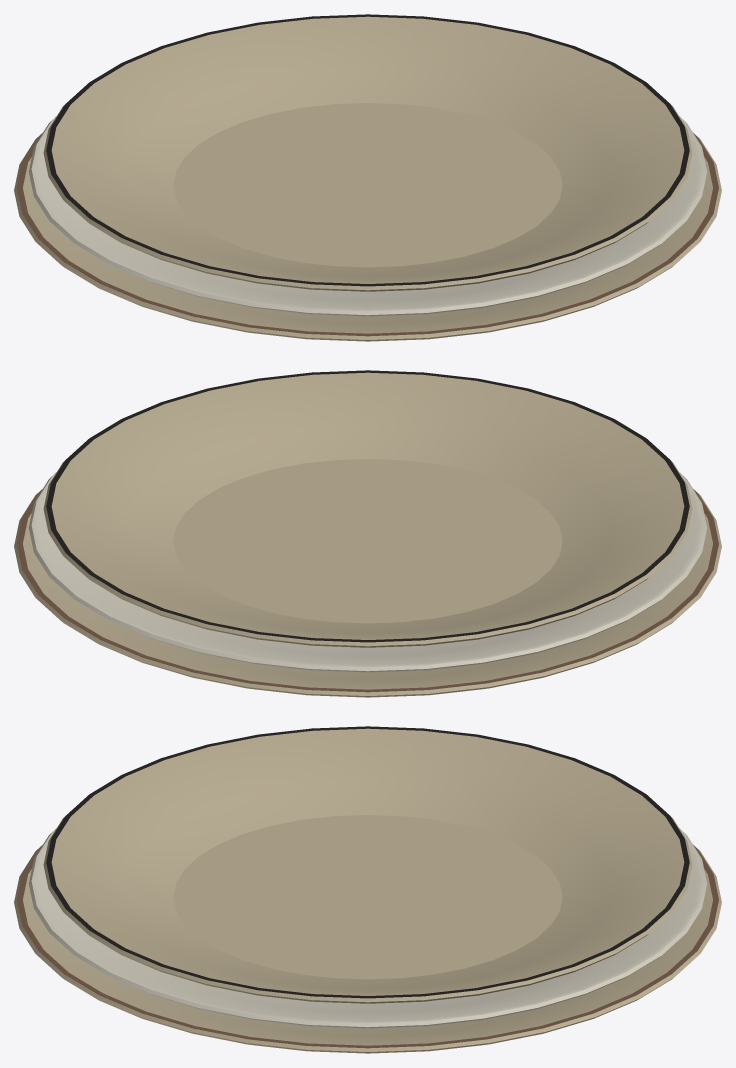
Rendered from plate-stack-1fb8f06fe81c.glb.
The picture shows the model from 3 angles, top to bottom: view 1: azimuth 30°, elevation 25°; view 2: azimuth 150°, elevation 25°; view 3: azimuth 270°, elevation 25°; orthographic projection.
Visible parts, largest first — view 1: enamel-beige, enamel, enamel-black, wood; view 2: enamel-beige, enamel, enamel-black, wood; view 3: enamel-beige, enamel, enamel-black, wood.
Part boxes in pixels (x1,y1,x2,y2): enamel-beige: [14, 16, 721, 341]; enamel: [28, 116, 707, 316]; enamel-black: [46, 14, 689, 286]; wood: [17, 133, 718, 336]; enamel-beige: [14, 372, 721, 697]; enamel: [28, 472, 707, 672]; enamel-black: [46, 370, 689, 642]; wood: [17, 489, 718, 692]; enamel-beige: [14, 728, 721, 1053]; enamel: [28, 828, 707, 1028]; enamel-black: [46, 726, 689, 998]; wood: [17, 845, 718, 1048].
Size of the model in its own units: 0.24 by 0.034 by 0.24.
